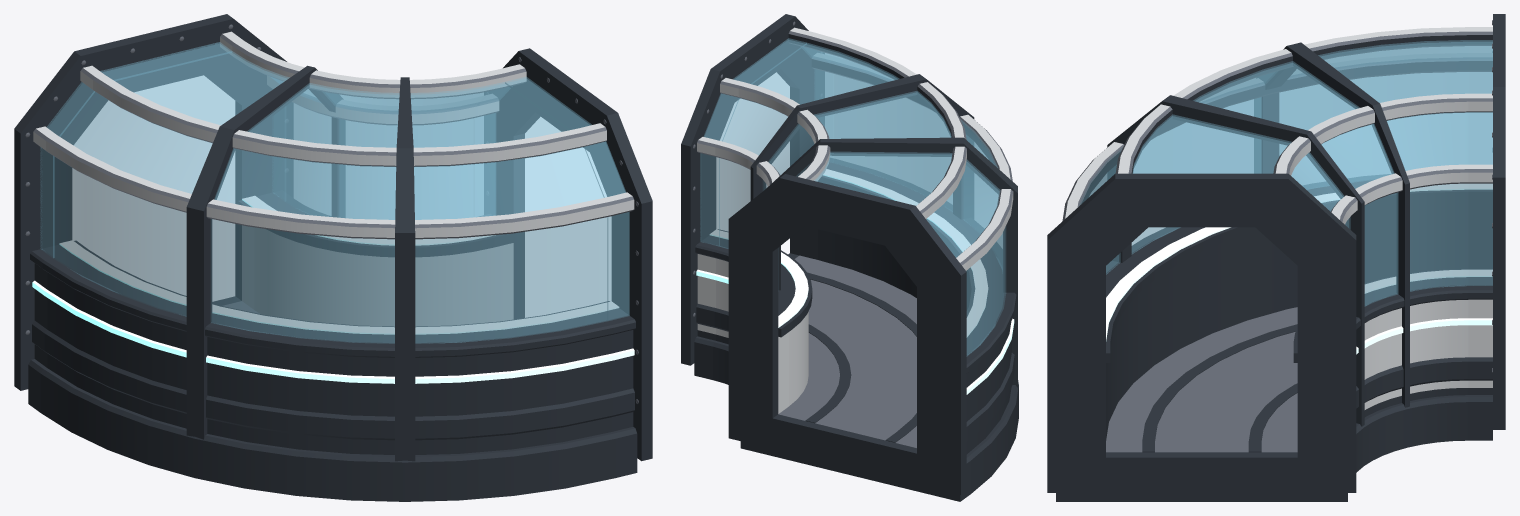
The model's file is Tunnel_Elbow90.fbx.
The picture shows the model from 3 angles, left to right: view 1: azimuth 30°, elevation 25°; view 2: azimuth 150°, elevation 25°; view 3: azimuth 270°, elevation 25°; orthographic projection. The views are drawn at different scales.
Visible parts, largest first — view 1: Tunnel_Elbow90_Body; view 2: Tunnel_Elbow90_Body; view 3: Tunnel_Elbow90_Body.
Part boxes in pixels (x1,y1,x2,y2): Tunnel_Elbow90_Body: (14, 14, 652, 501); Tunnel_Elbow90_Body: (681, 14, 1018, 501); Tunnel_Elbow90_Body: (1047, 14, 1505, 501).
Bounding box in the file's own units: 4.3 × 3.4 × 4.3.
